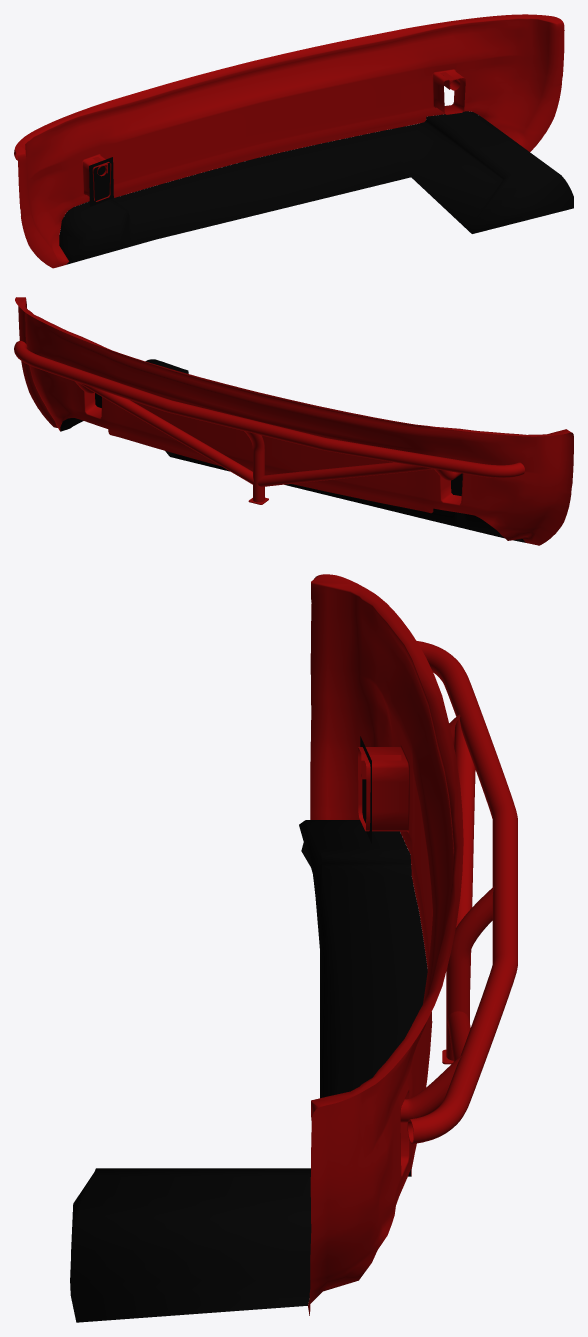
File: rearbumper_bashbarstreetfaction.glb
3 renders of one model, top to bottom at view 1: azimuth 30°, elevation 25°; view 2: azimuth 150°, elevation 25°; view 3: azimuth 270°, elevation 25°, orthographic. The views are drawn at different scales.
Visible parts, largest first — view 1: Bumper, Undercarriage, Bash Bar; view 2: Bumper, Bash Bar, Undercarriage; view 3: Undercarriage, Bumper, Bash Bar.
Boxes of the visible parts, x1,y1,x2,y2 form: Bumper: (15, 14, 564, 268); Undercarriage: (59, 111, 573, 264); Bash Bar: (14, 72, 460, 176); Bumper: (15, 297, 573, 545); Bash Bar: (14, 341, 524, 504); Undercarriage: (60, 359, 525, 542); Undercarriage: (70, 736, 427, 1322); Bumper: (308, 574, 463, 1315); Bash Bar: (361, 641, 517, 1143).
Bounding box in the file's own units: 1.6 × 0.3722 × 0.5687.
